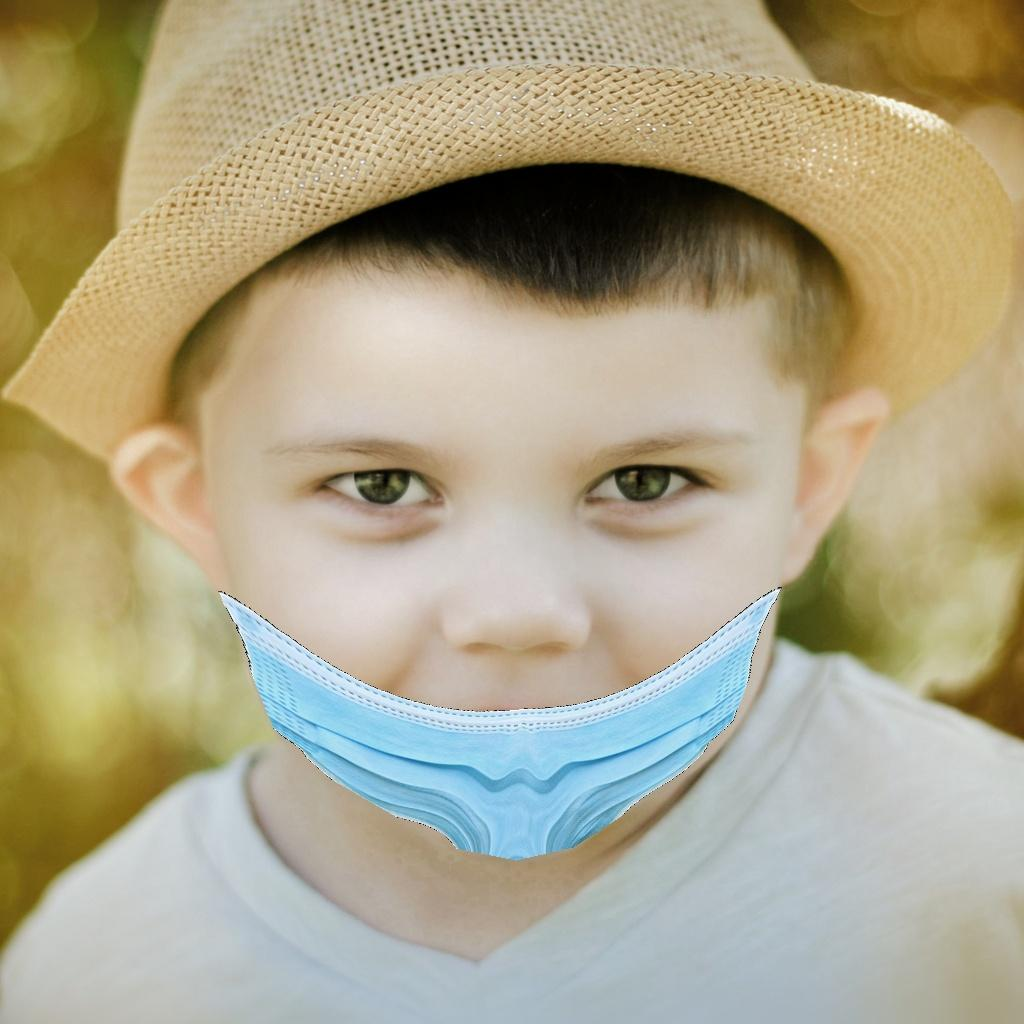Máscara Incorreta: (215, 290, 794, 841)
